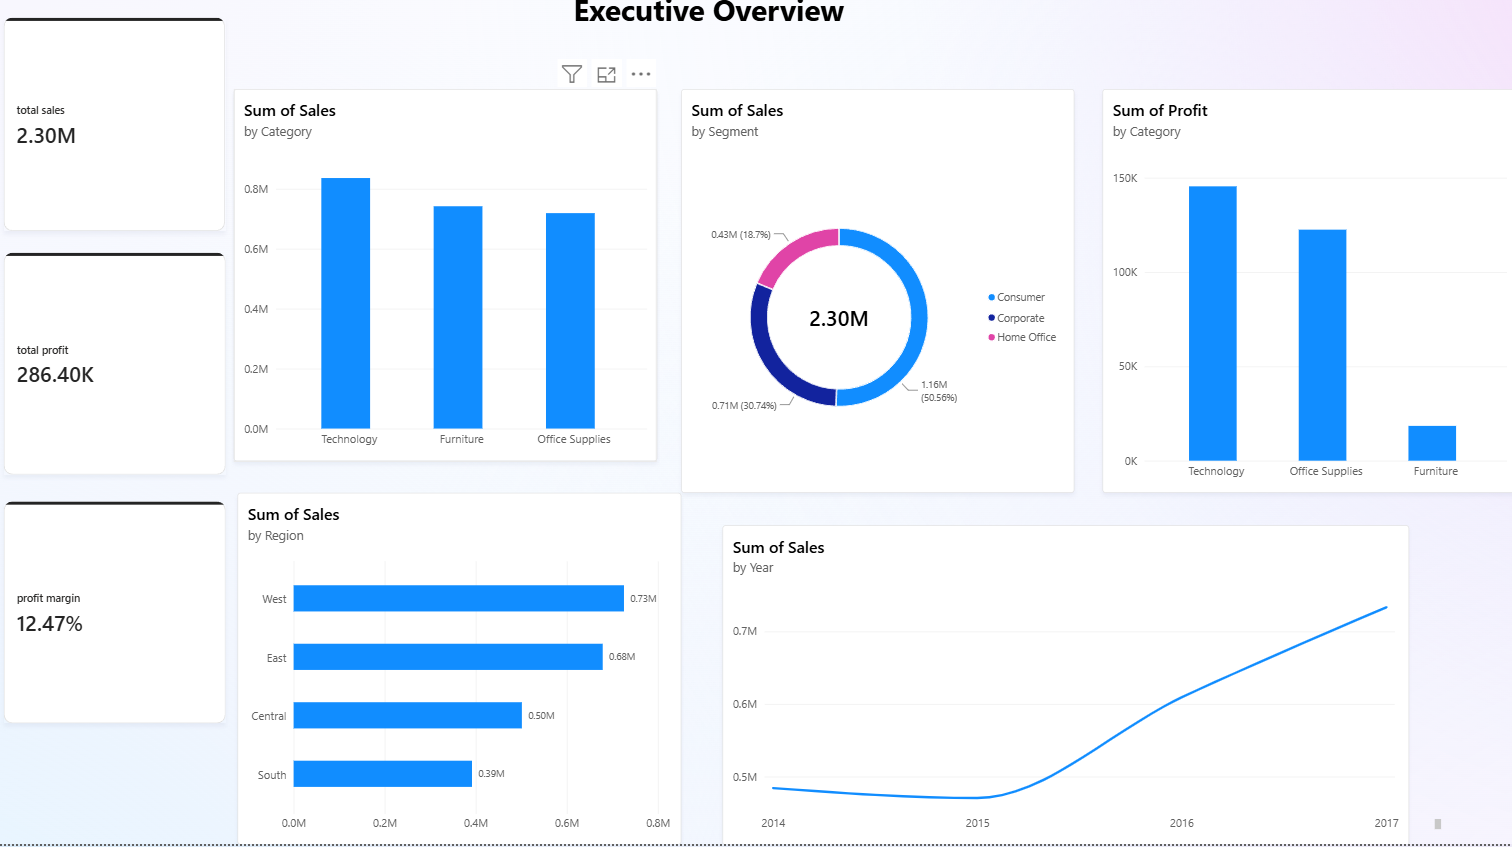

The dashboard page shown, as its layout file describes it:
{"tool":"powerbi","page":{"name":"Executive Overview","canvas":[1920,1080],"ordinal":0},"visuals":[{"type":"cardVisual","fields":{"Data":["superstore_cleaned(1).total sales"]},"box":[10.3,37,279.9,269.6],"z":0},{"type":"cardVisual","fields":{"Data":["superstore_cleaned(1).total profit"]},"box":[10.3,333.4,280,280],"z":1},{"type":"cardVisual","fields":{"Data":["superstore_cleaned(1).profit margin"]},"box":[10.3,646.3,280,280],"z":2},{"type":"clusteredColumnChart","fields":{"Category":["superstore_cleaned(1).Category"],"Y":["Sum(superstore_cleaned(1).Sales)"]},"box":[300.9,126.3,534.7,469.2],"z":3},{"type":"clusteredBarChart","fields":{"Category":["superstore_cleaned(1).Region"],"Y":["Sum(superstore_cleaned(1).Sales)"]},"box":[305.5,636,559.6,444.3],"z":4},{"type":"lineChart","fields":{"Category":["superstore_cleaned(1).Order Date.Variation.Date Hierarchy.Year","superstore_cleaned(1).Order Date.Variation.Date Hierarchy.Quarter","superstore_cleaned(1).Order Date.Variation.Date Hierarchy.Month","superstore_cleaned(1).Order Date.Variation.Date Hierarchy.Day"],"Y":["Sum(superstore_cleaned(1).Sales)"]},"box":[918.2,676.6,866.7,403.8],"z":5},{"type":"donutChart","fields":{"Category":["superstore_cleaned(1).Segment"],"Y":["Sum(superstore_cleaned(1).Sales)"]},"box":[865.2,126.3,495.7,509.8],"z":6},{"type":"clusteredColumnChart","fields":{"Category":["superstore_cleaned(1).Category"],"Y":["Sum(superstore_cleaned(1).Profit)"]},"box":[1396.8,126.3,523.8,509.8],"z":7},{"type":"textbox","box":[1396.8,1047.6,427.1,12.5],"z":8},{"type":"textbox","box":[331.4,0,1138.3,72],"z":9}]}

Visuals, with their boxes in screenshot pixels (x1, y1, x2, y2), scaled from the page's 1920x1080 canvas onto the 1512x847 screenshot:
cardVisual - superstore_cleaned(1).total sales: [8, 29, 229, 240]
cardVisual - superstore_cleaned(1).total profit: [8, 261, 229, 481]
cardVisual - superstore_cleaned(1).profit margin: [8, 507, 229, 726]
clusteredColumnChart - superstore_cleaned(1).Category x Sum(superstore_cleaned(1).Sales): [237, 99, 658, 467]
clusteredBarChart - superstore_cleaned(1).Region x Sum(superstore_cleaned(1).Sales): [241, 499, 681, 846]
lineChart - superstore_cleaned(1).Order Date.Variation.Date Hierarchy.Year x superstore_cleaned(1).Order Date.Variation.Date Hierarchy.Quarter: [723, 531, 1406, 846]
donutChart - superstore_cleaned(1).Segment x Sum(superstore_cleaned(1).Sales): [681, 99, 1072, 499]
clusteredColumnChart - superstore_cleaned(1).Category x Sum(superstore_cleaned(1).Profit): [1100, 99, 1511, 499]
textbox: [1100, 822, 1436, 831]
textbox: [261, 0, 1157, 56]
